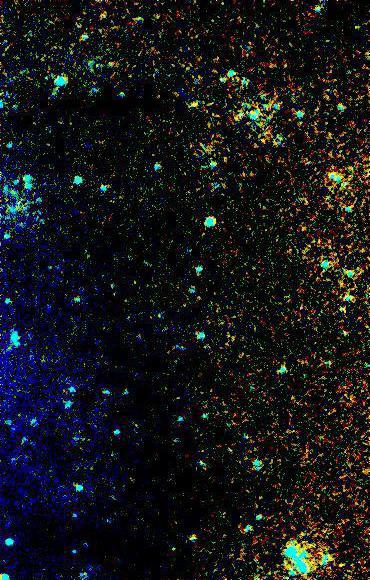star: (176, 89, 206, 119)
